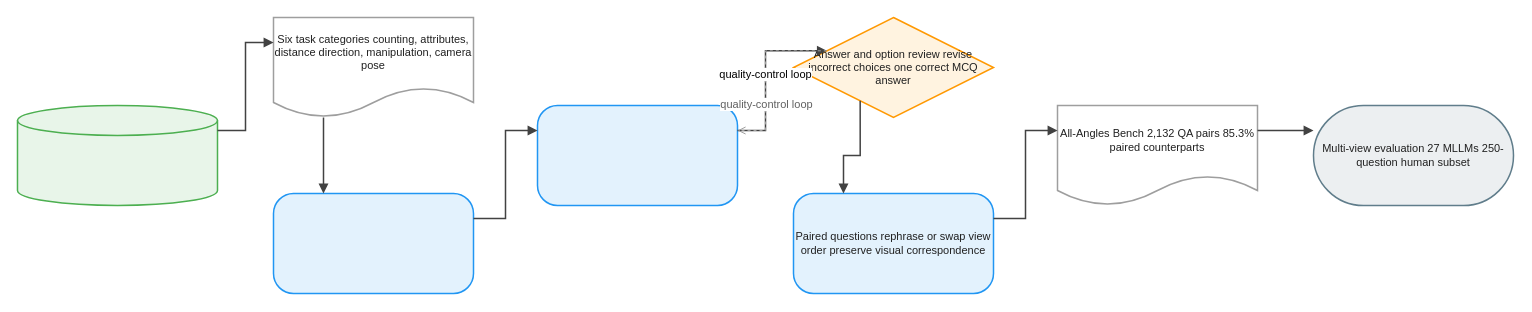
Image size: 1532x312. Some labels were removed from this diagram. Here are the shapes that lost their labels. From the top down, the centre of each, then its label:
the point at 117,155: Multi-view sources Ego-Exo4D and EgoHumans 90 real-world scenes
the point at 637,155: Human annotation 8 annotators inspect images remove invalid or unclear items
the point at 373,243: MLLM question drafts multi-view visual grounding category-specific templates
